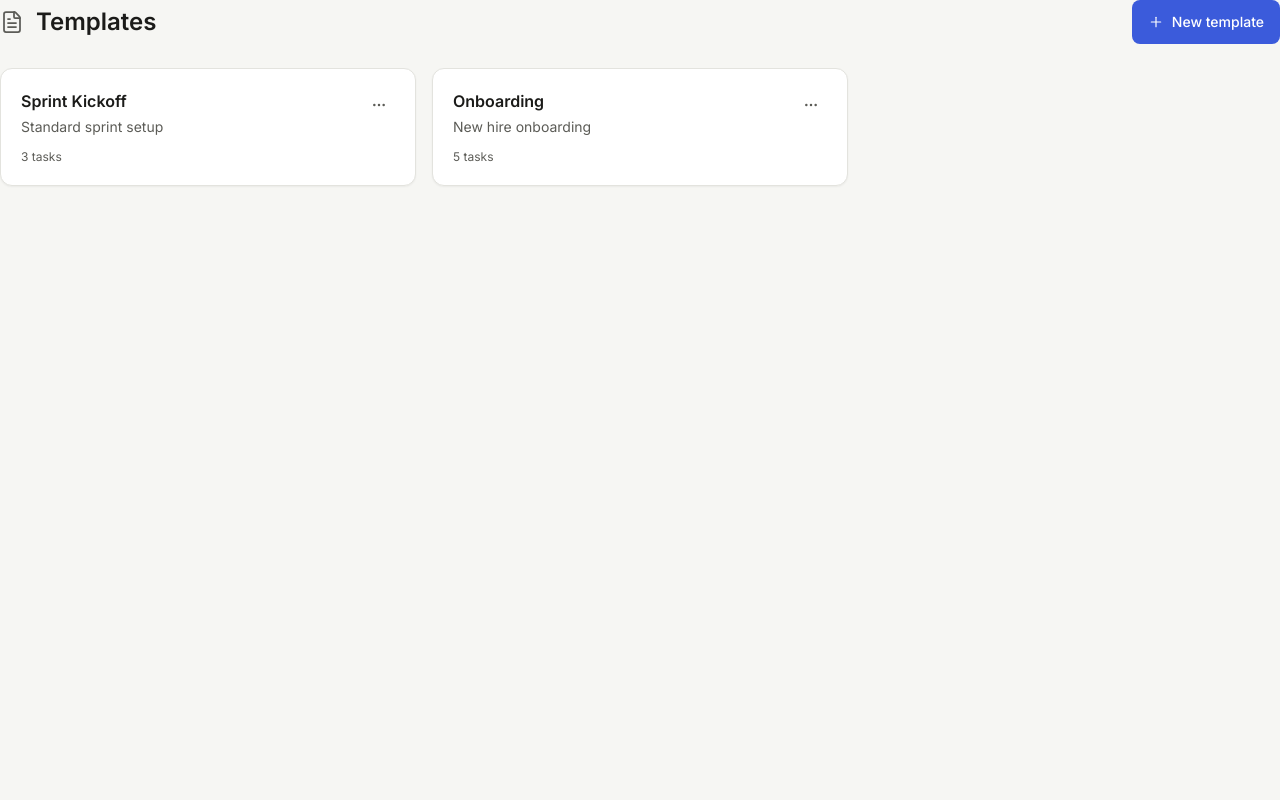
Scenario: TemplatesPage › opens create dialog on "New template" click
This screenshot has width=1280, height=800.
Click the button "New template".
click(1206, 22)  # box [1132, 0, 1279, 44]
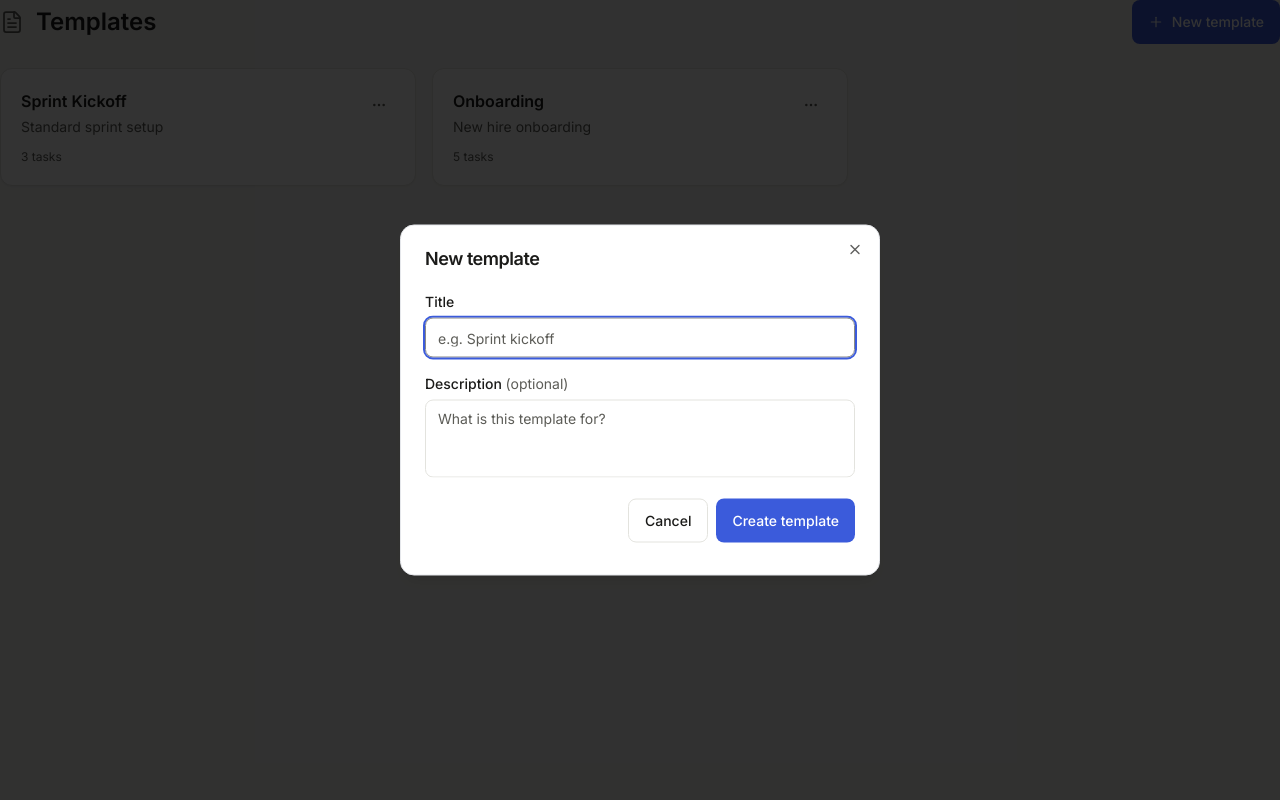
Expected: the dialog is shown, [400, 224, 880, 576]
